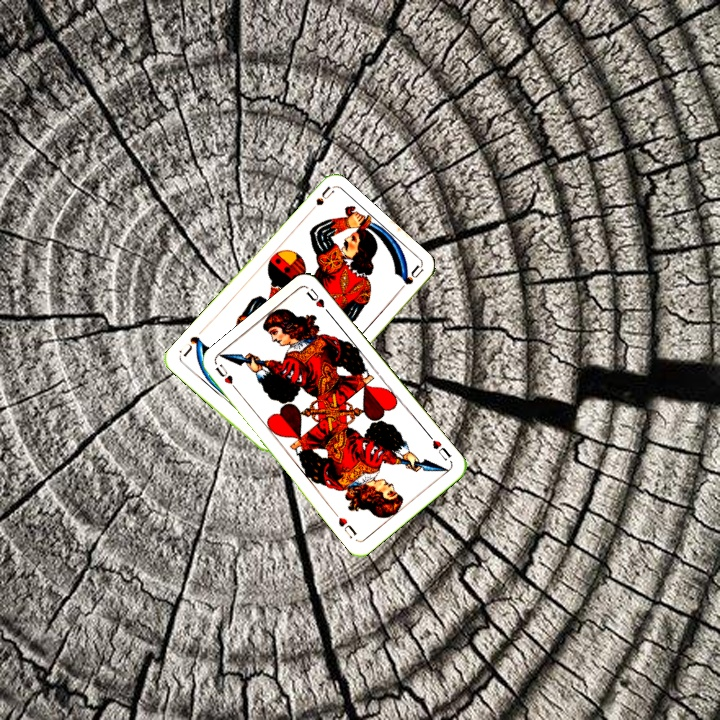HU: (211, 360, 242, 396), (424, 431, 454, 463)
SU: (303, 183, 336, 218)
